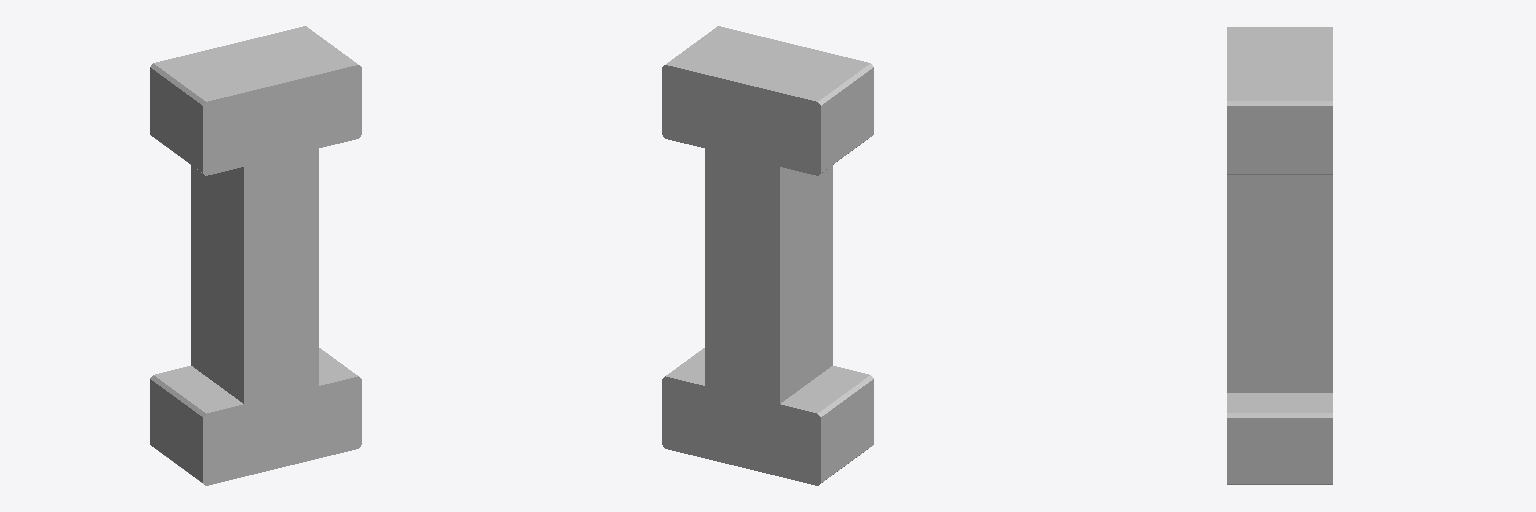
3 renders of one model, left to right at view 1: azimuth 30°, elevation 25°; view 2: azimuth 150°, elevation 25°; view 3: azimuth 270°, elevation 25°, orthographic.
Visible parts, largest first — view 1: text: ABCDEFGHIJKLMNOPQRSTUVWXYZ[number redacted]; view 2: text: ABCDEFGHIJKLMNOPQRSTUVWXYZ[number redacted]; view 3: text: ABCDEFGHIJKLMNOPQRSTUVWXYZ[number redacted].
Part boxes in pixels (bbox=[...]): text: ABCDEFGHIJKLMNOPQRSTUVWXYZ[number redacted]: bbox=[150, 26, 361, 485]; text: ABCDEFGHIJKLMNOPQRSTUVWXYZ[number redacted]: bbox=[662, 26, 873, 485]; text: ABCDEFGHIJKLMNOPQRSTUVWXYZ[number redacted]: bbox=[1227, 27, 1332, 484].
Bounding box in the file's own units: 43.26 × 100 × 25.